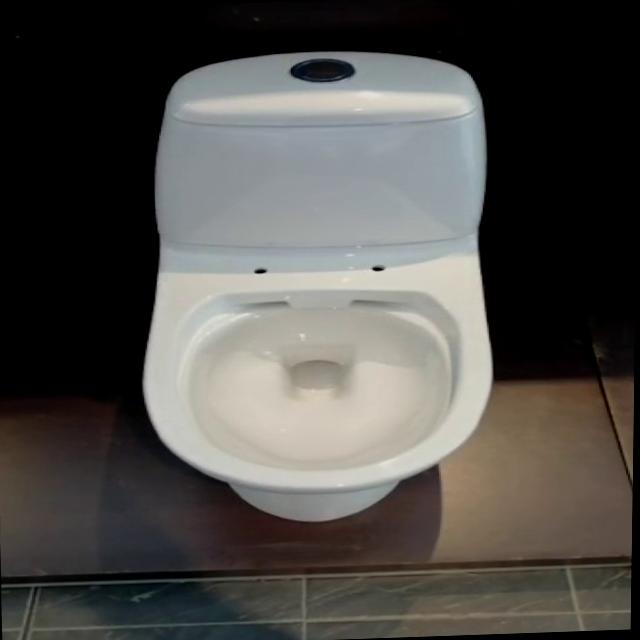toilet: (130, 44, 505, 528)
